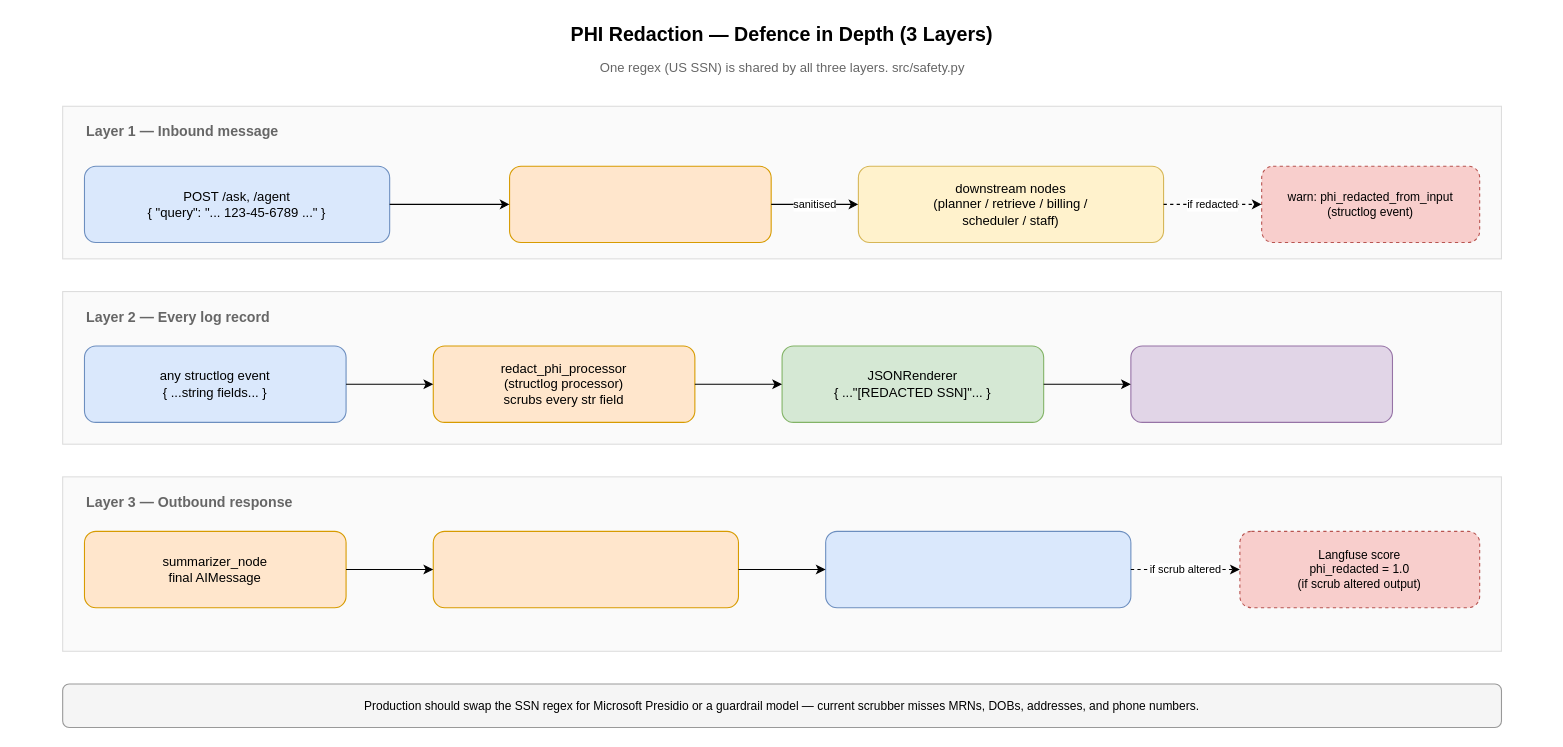
The diagram is 1563 pixels wide and 747 high, and some of its shapes have lost their labels. Each missing label, with the box of its shape:
_run_agent (api/agent_routes.py) redact_phi_text(final_message): (432, 530, 738, 608)
HTTP 200 { "answer": "...[REDACTED SSN]...", "citations": [...] }: (825, 530, 1131, 608)
log aggregator (Datadog / Loki / stdout): (1130, 345, 1392, 422)
safety_node (graph entry) regex SSN_PATTERN: (508, 165, 771, 243)
